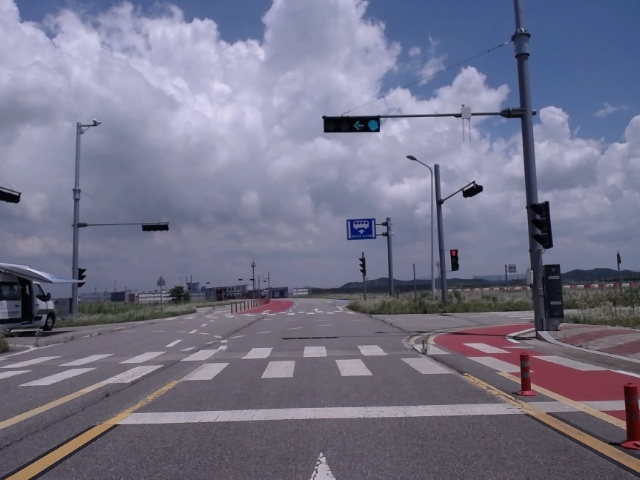all_green_4: (327, 114, 381, 132)
